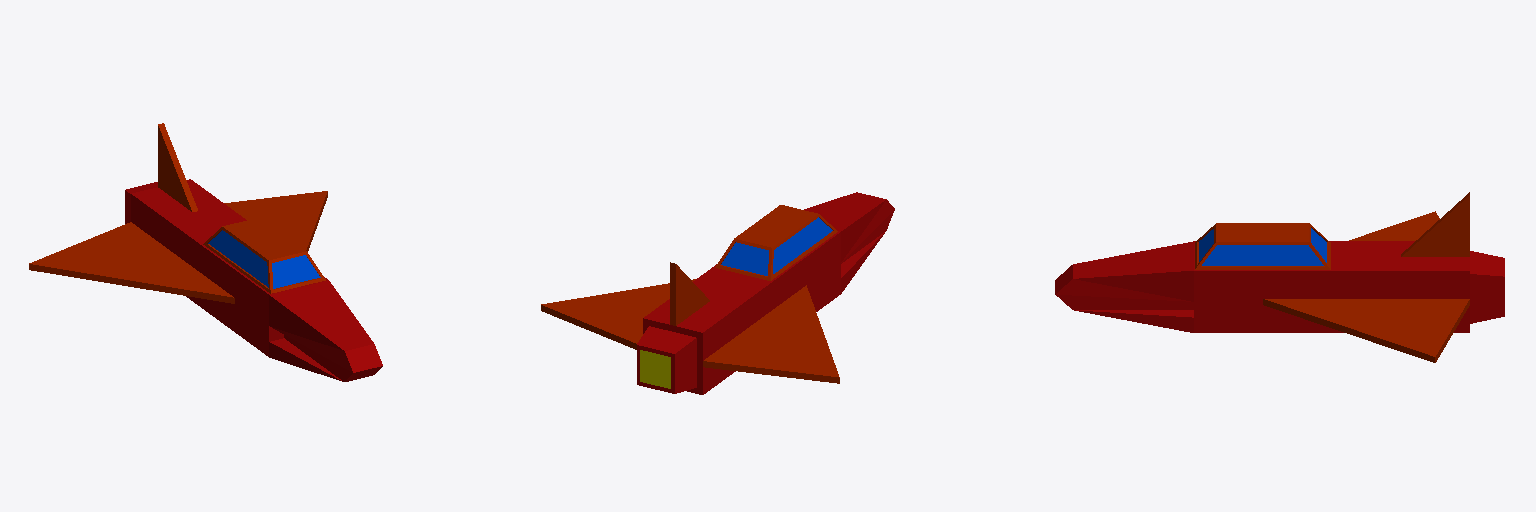
Rendered from Ship_Cobra.obj.
3 renders of one model, left to right at view 1: azimuth 30°, elevation 25°; view 2: azimuth 150°, elevation 25°; view 3: azimuth 270°, elevation 25°, orthographic.
Parts seen in each view (by area): view 1: Wing1_Cube.008, Cube_Cube.011, Canopy__Outside_Cube.001, Cockpit_Outside_Cube, Engine_Cube.006, ReactorCube_Cube.005, TailFin_Cube.009; view 2: Wing1_Cube.008, Engine_Cube.006, Canopy__Outside_Cube.001, Cube_Cube.011, Cockpit_Outside_Cube, ReactorCube_Cube.005, TailFin_Cube.009; view 3: Cube_Cube.011, Wing1_Cube.008, Cockpit_Outside_Cube, Canopy__Outside_Cube.001, Engine_Cube.006, ReactorCube_Cube.005, TailFin_Cube.009.
Boxes of the visible parts, x1=… form: Wing1_Cube.008: x1=29, y1=191, x2=327, y2=303; Cube_Cube.011: x1=269, y1=280, x2=382, y2=381; Canopy__Outside_Cube.001: x1=203, y1=217, x2=325, y2=293; Cockpit_Outside_Cube: x1=200, y1=244, x2=327, y2=356; Engine_Cube.006: x1=125, y1=179, x2=224, y2=246; ReactorCube_Cube.005: x1=166, y1=204, x2=246, y2=305; TailFin_Cube.009: x1=158, y1=123, x2=197, y2=211; Wing1_Cube.008: x1=541, y1=279, x2=839, y2=383; Engine_Cube.006: x1=637, y1=299, x2=736, y2=394; Canopy__Outside_Cube.001: x1=715, y1=205, x2=837, y2=280; Cube_Cube.011: x1=804, y1=192, x2=894, y2=293; Cockpit_Outside_Cube: x1=712, y1=231, x2=840, y2=311; ReactorCube_Cube.005: x1=693, y1=268, x2=771, y2=335; TailFin_Cube.009: x1=670, y1=262, x2=709, y2=325; Cube_Cube.011: x1=1055, y1=241, x2=1193, y2=332; Wing1_Cube.008: x1=1263, y1=211, x2=1469, y2=362; Cockpit_Outside_Cube: x1=1194, y1=241, x2=1331, y2=332; Canopy__Outside_Cube.001: x1=1195, y1=223, x2=1330, y2=269; Engine_Cube.006: x1=1401, y1=241, x2=1504, y2=332; ReactorCube_Cube.005: x1=1332, y1=241, x2=1400, y2=332; TailFin_Cube.009: x1=1401, y1=192, x2=1469, y2=256.
Size of the model in its own units: 5 by 2 by 6.5.